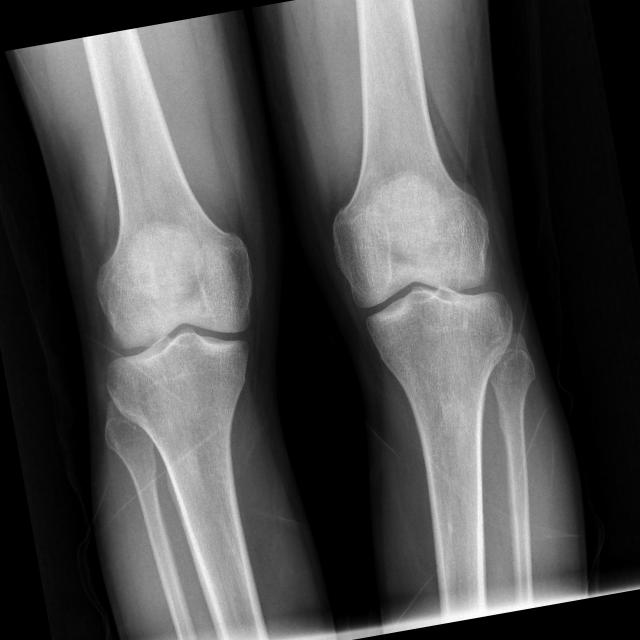Knee: (334, 207, 524, 380), (90, 252, 277, 416)
